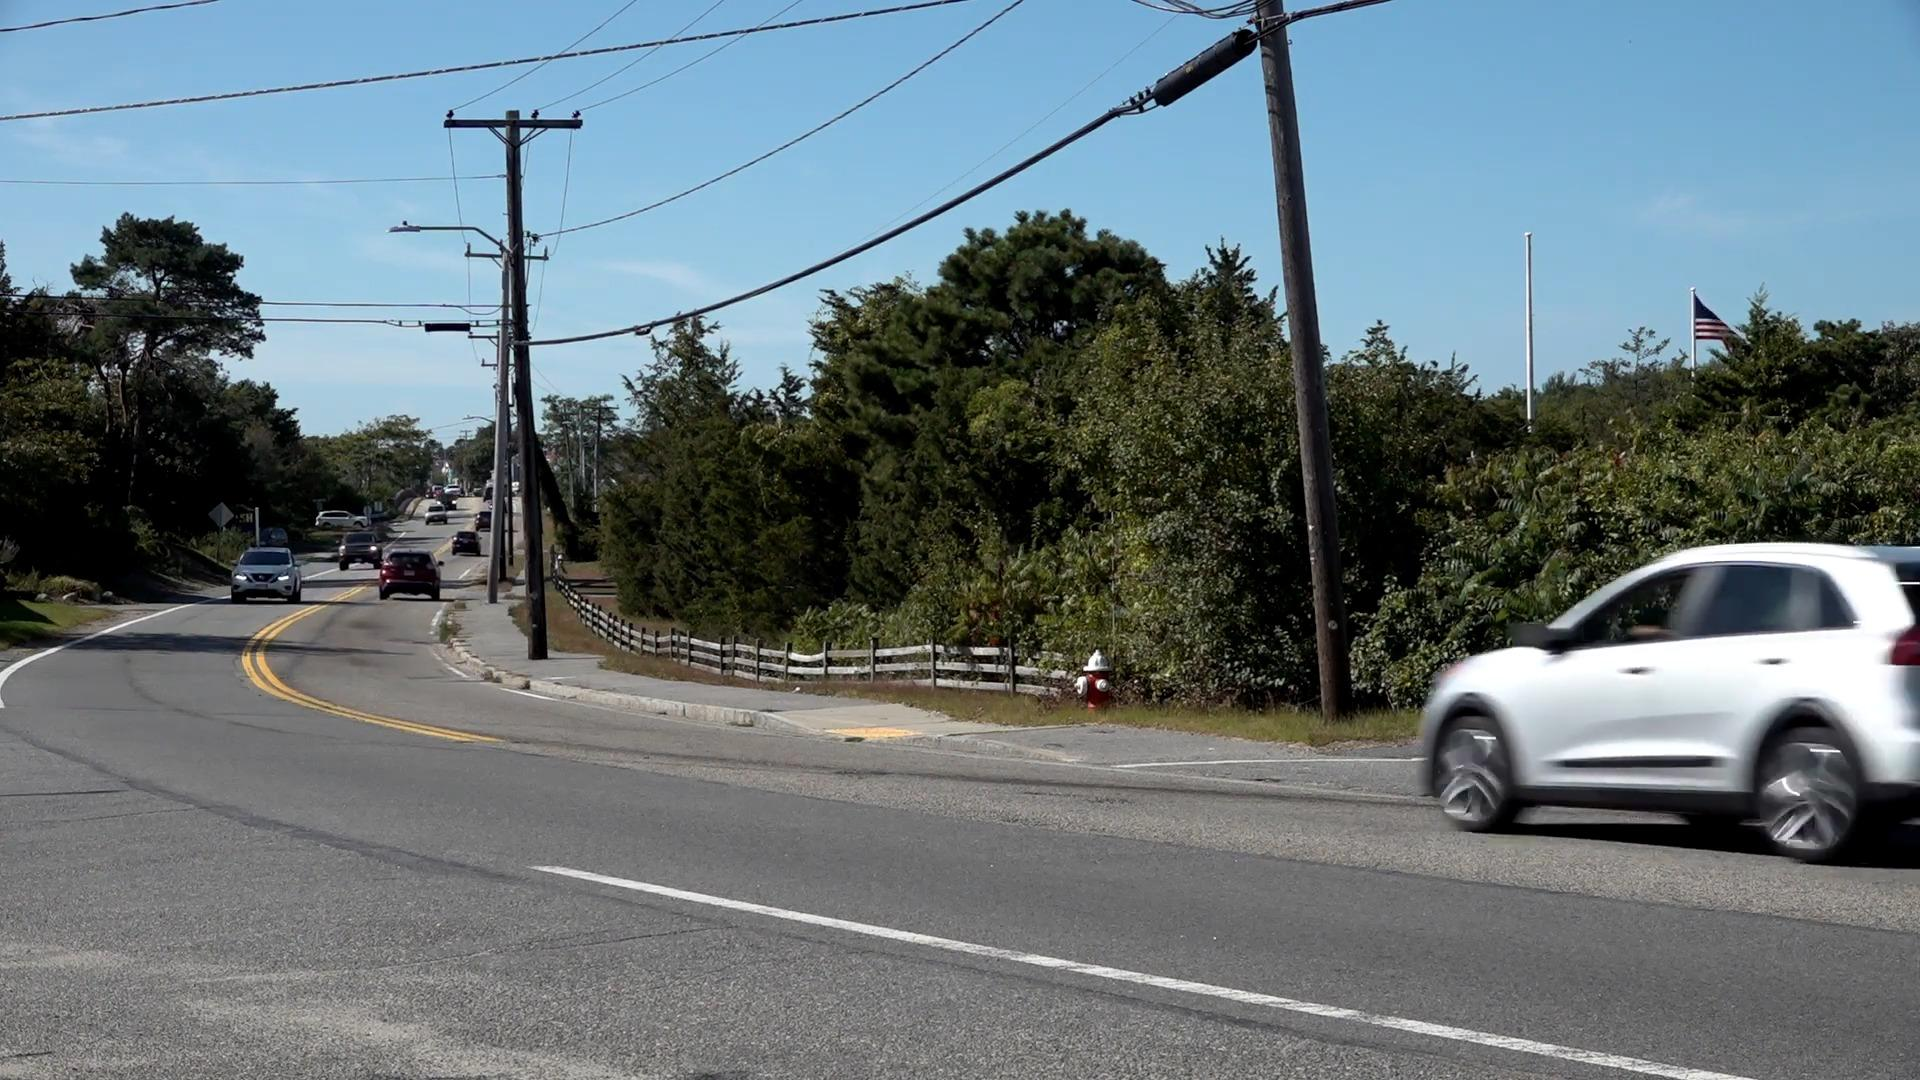pickup: (337, 531, 381, 574)
suv: (237, 547, 303, 601), (383, 551, 441, 600)
